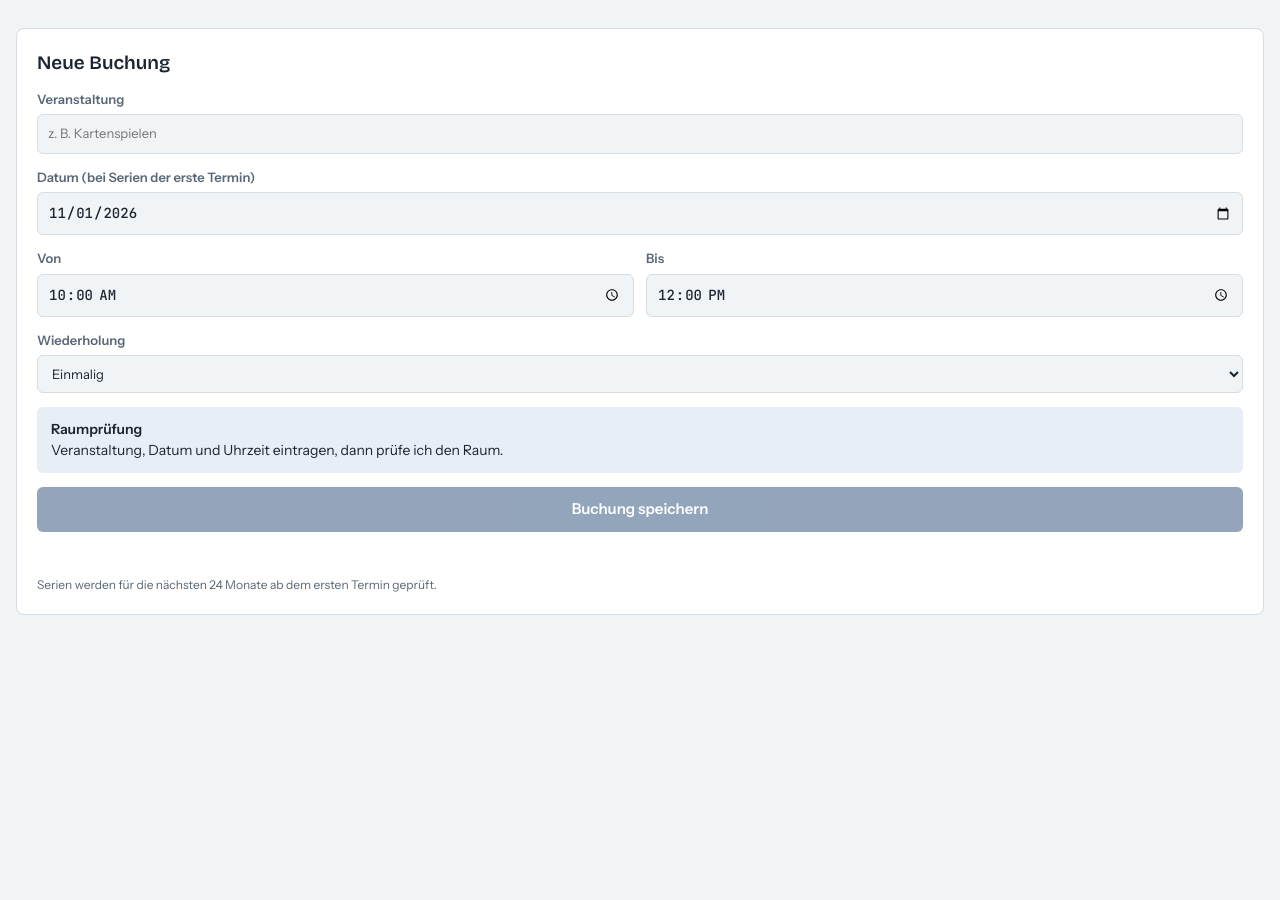
Scenario: BookingForm › counts conflicting dates of a series
Type "Kurs" into the field labelled "Veranstaltung" at (640, 134), box left=37, top=114, right=1243, bottom=154
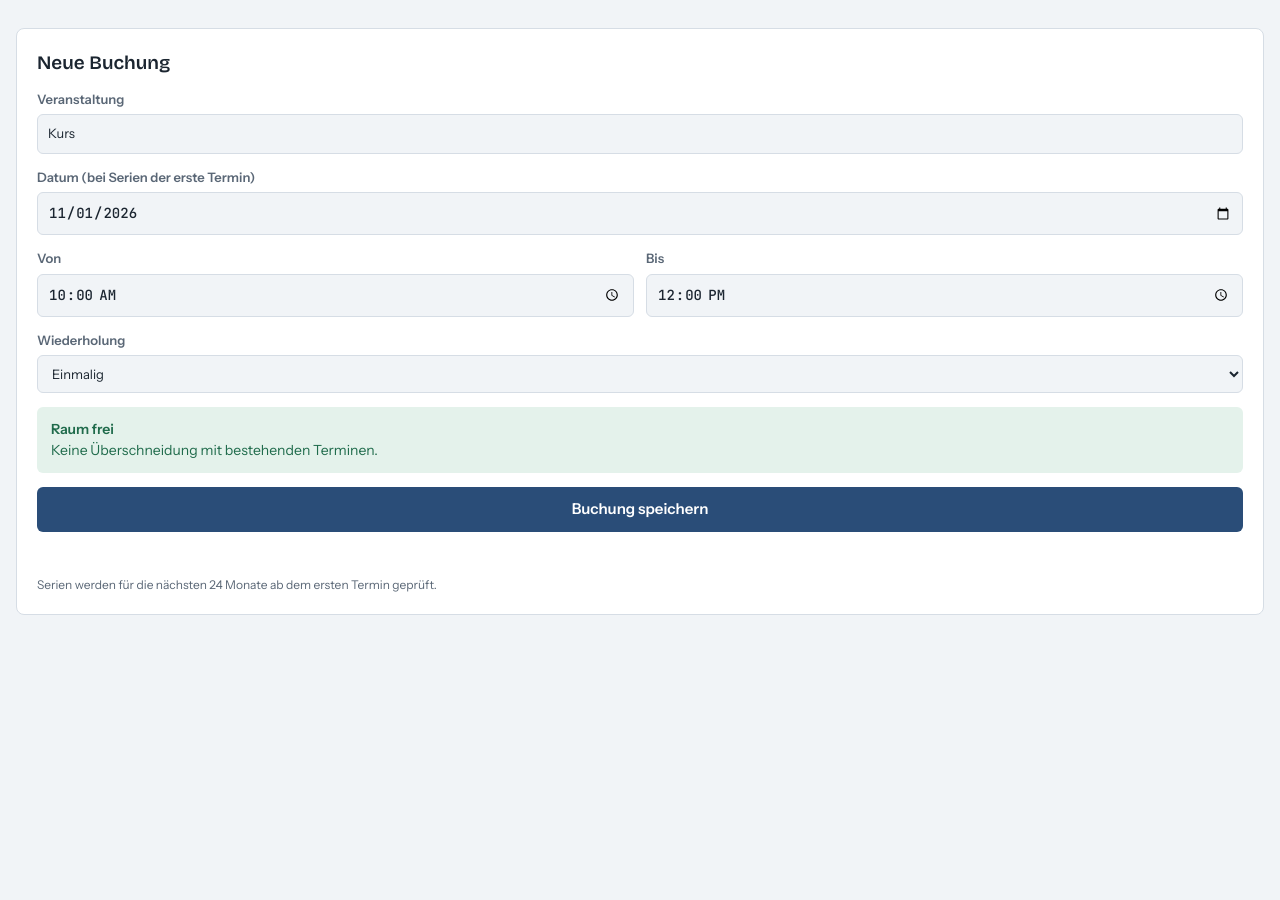
Type "2026-11-10" into the date field labelled "Datum (bei Serien der erste Termin)" at (640, 214), box left=37, top=192, right=1243, bottom=235
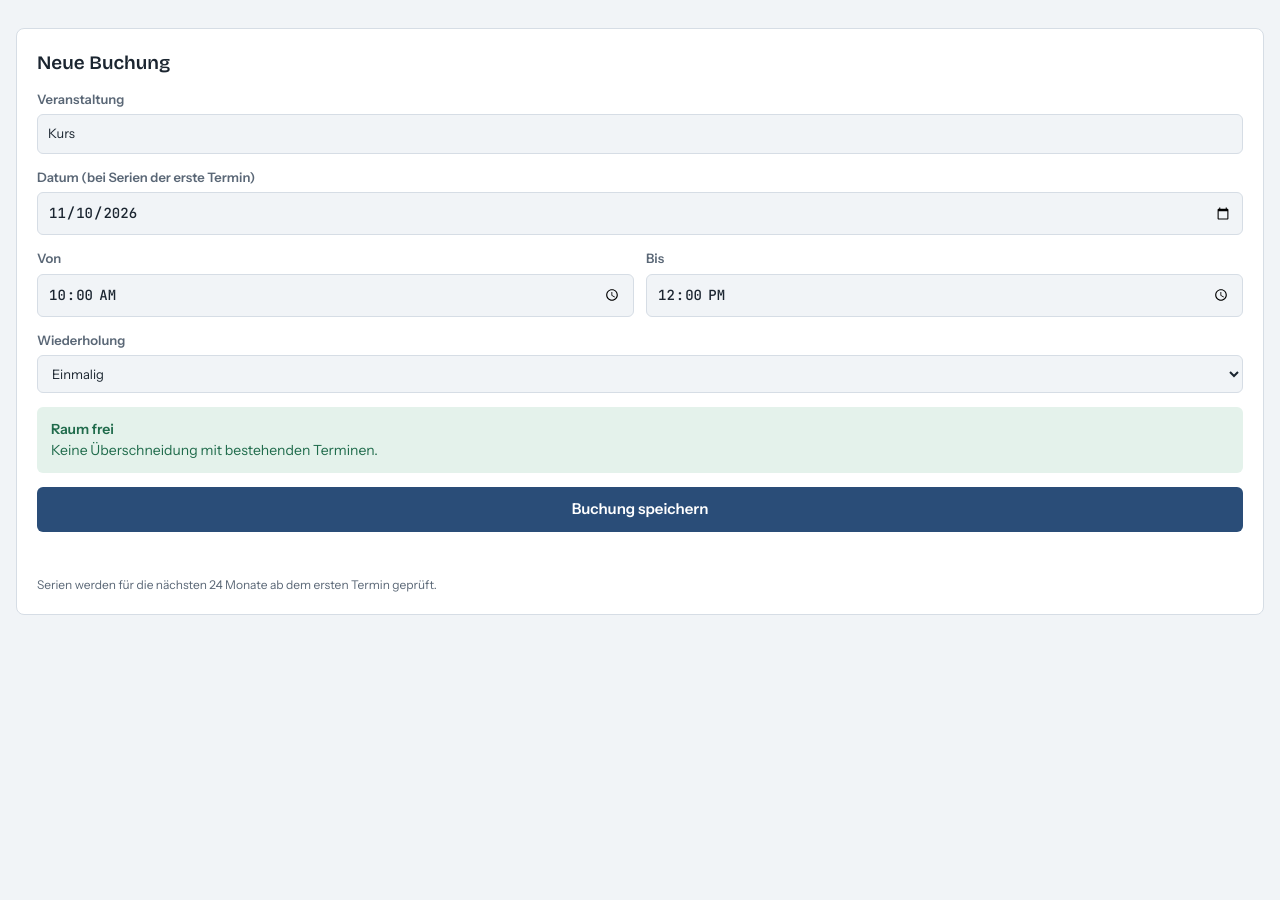
Replace the text in the time field labelled "Von" with "16:00" at (336, 295), box left=37, top=274, right=634, bottom=316
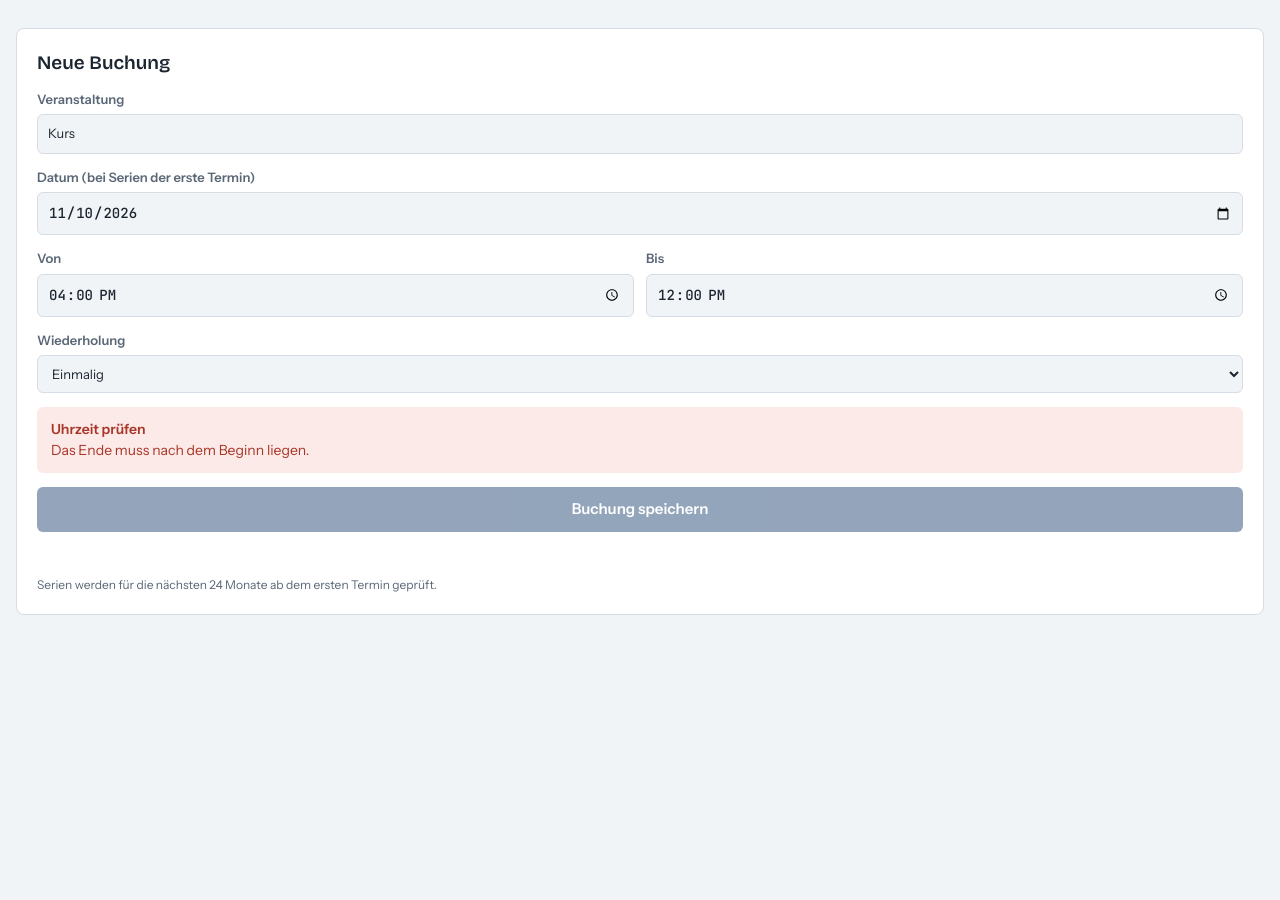
Replace the text in the time field labelled "Bis" with "18:00" at (944, 295), box left=646, top=274, right=1243, bottom=316
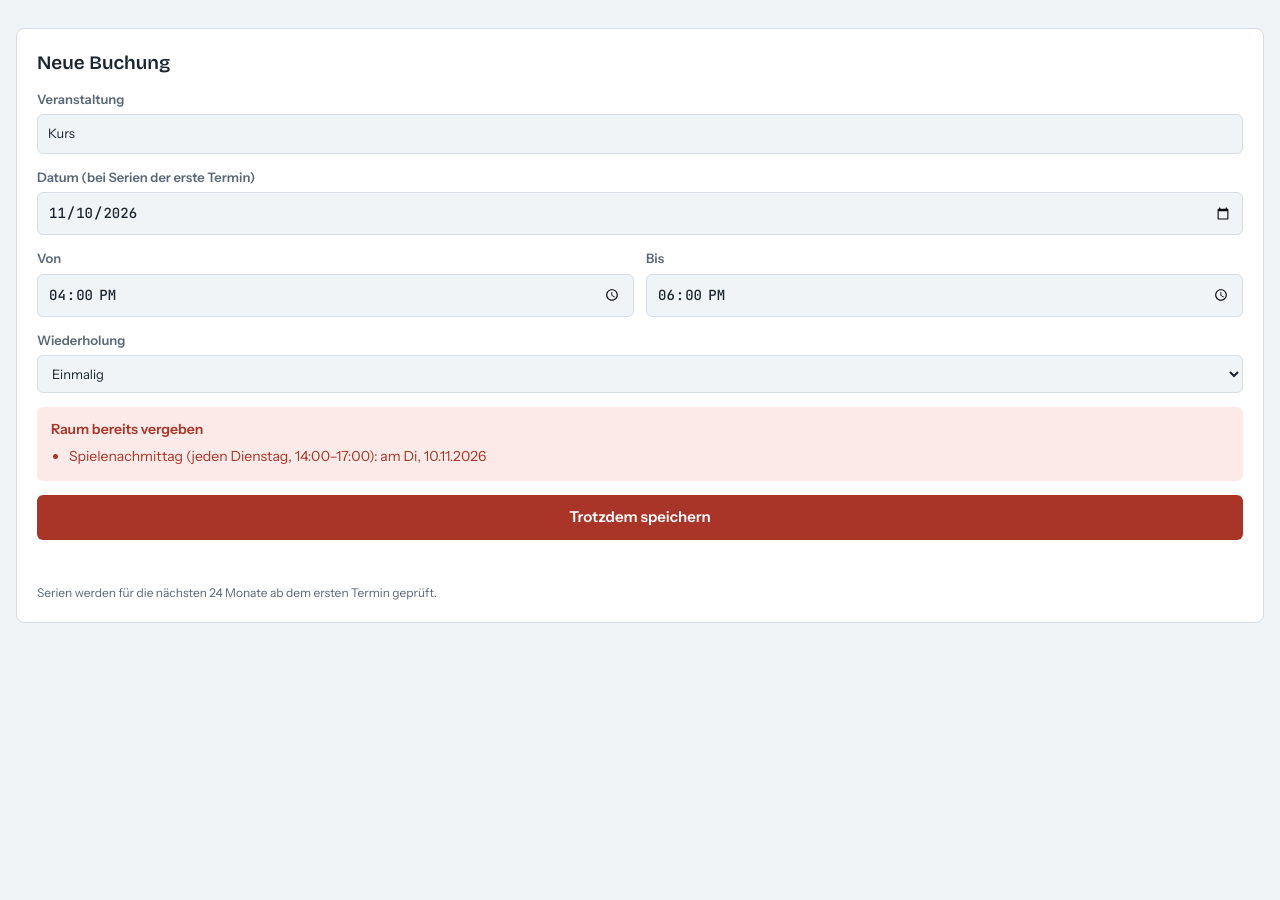
Select "Wöchentlich (jeden Dienstag)" in the dropdown labelled "Wiederholung" at (640, 374), box left=37, top=355, right=1243, bottom=393
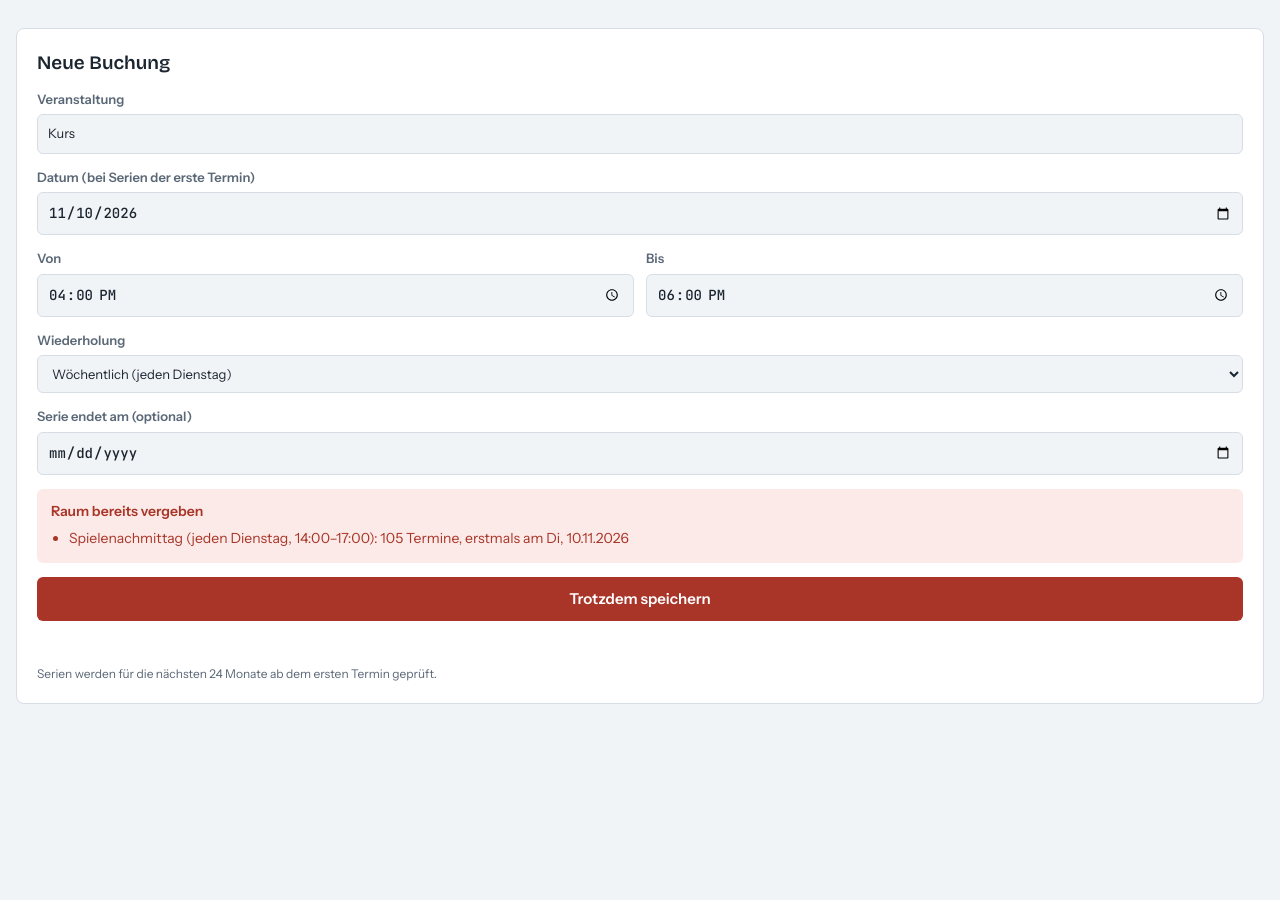
Expected: the message with test id "check" shows "Termine, erstmals am Di, 10.11.2026", left=69, top=528, right=629, bottom=546
